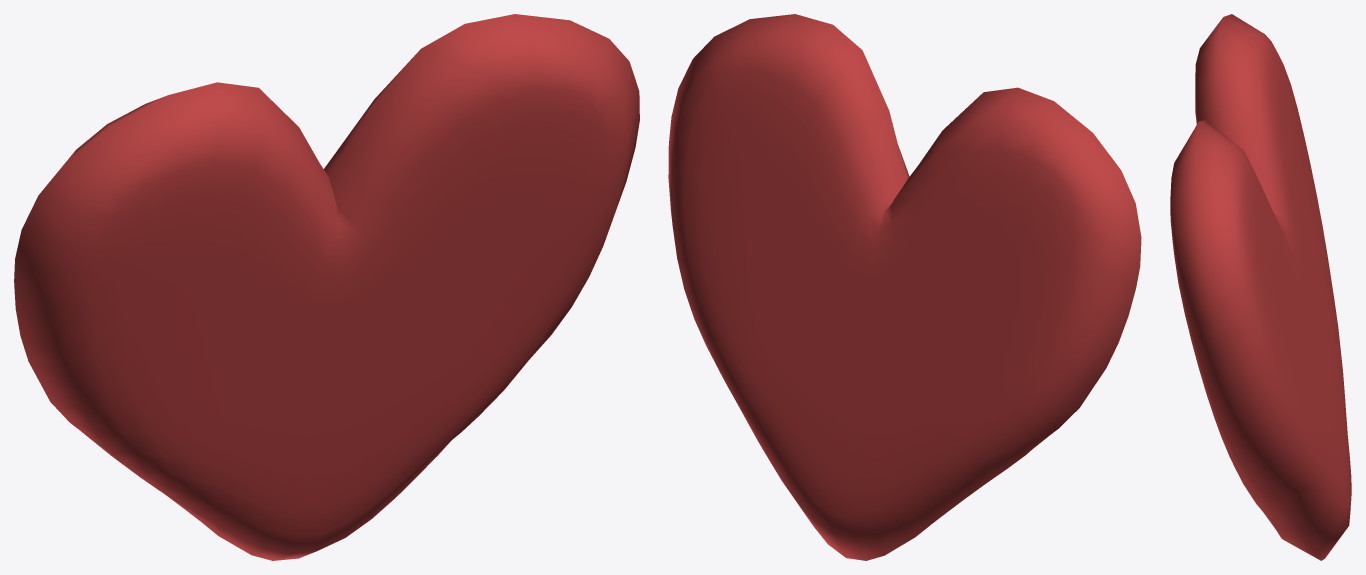
Rendered from heartanimation.fbx.
3 renders of one model, left to right at view 1: azimuth 30°, elevation 25°; view 2: azimuth 150°, elevation 25°; view 3: azimuth 270°, elevation 25°, orthographic. The views are drawn at different scales.
Visible parts, largest first — view 1: pCube14; view 2: pCube14; view 3: pCube14.
Boxes of the visible parts, bbox=[...] form: pCube14: bbox=[14, 14, 639, 560]; pCube14: bbox=[668, 14, 1141, 560]; pCube14: bbox=[1170, 14, 1351, 560].
Bounding box in the file's own units: 2.79 × 2.54 × 0.881.
